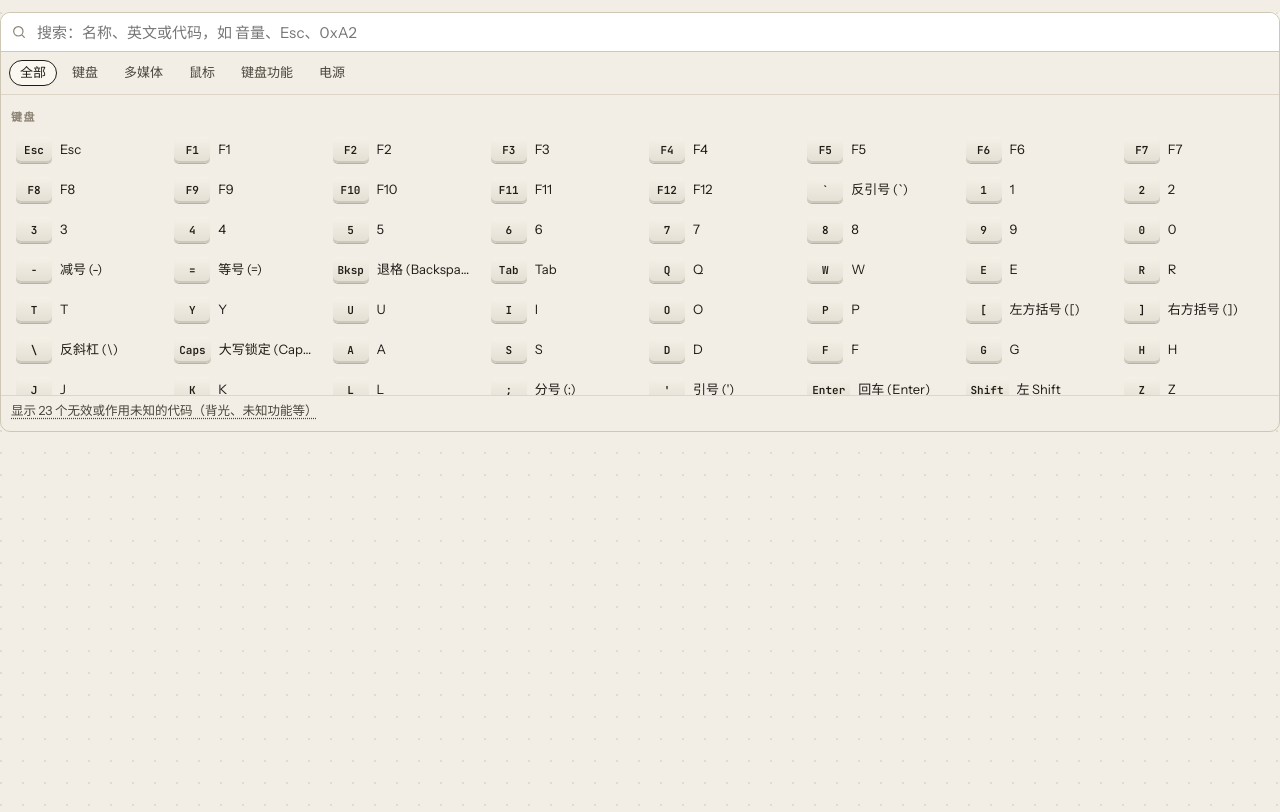
Test case: CodePicker › finds hidden codes by search (0xA2 from the key tester guide) and Enter prefers a working code
Later steps or results of the test are not shown.
Step 1. Type "0xA2" into the search field named "搜索按键代码" → coordinates (652, 32), box x1=35 y1=13 x2=1269 y2=51
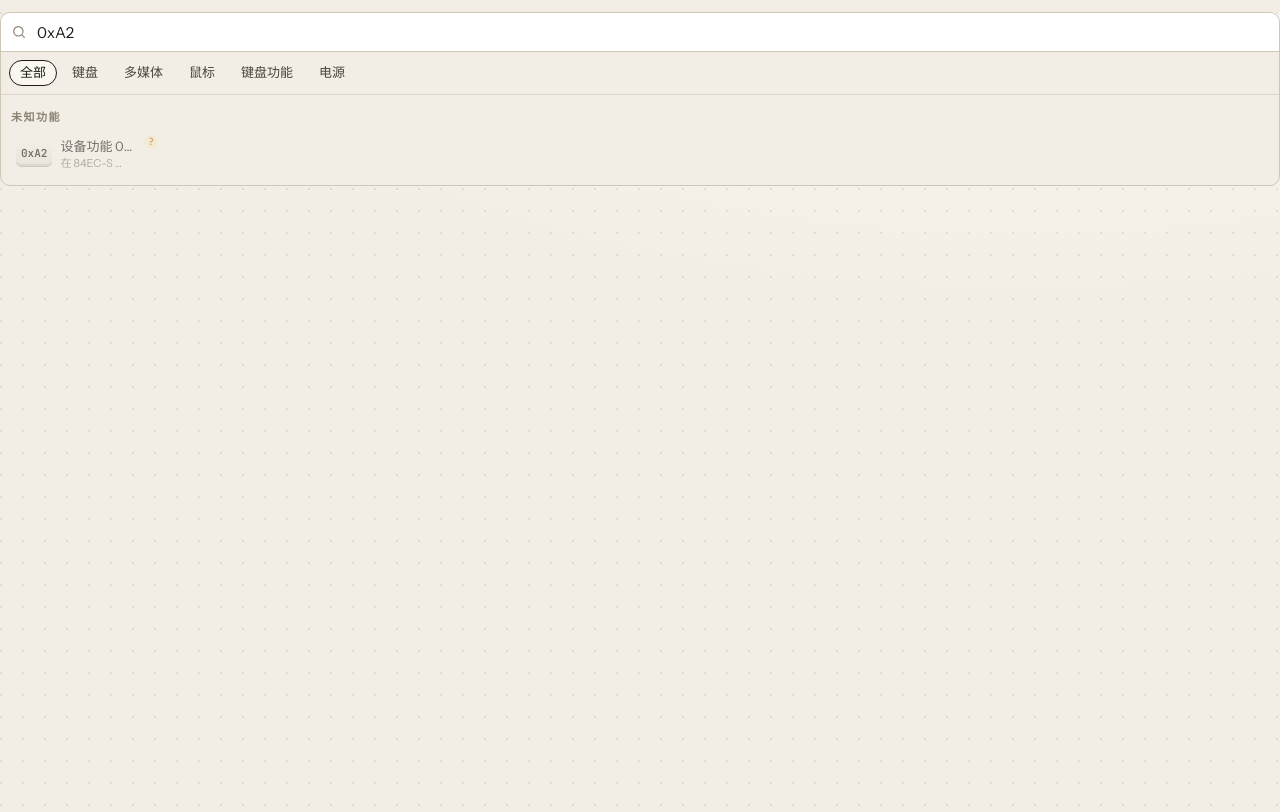
Expected: the option "0xA2 设备功能 0xA2 在 84EC-S 上的作用未验证 ?" is shown, x1=9 y1=132 x2=163 y2=175
Expected: the button "显示" is gone
